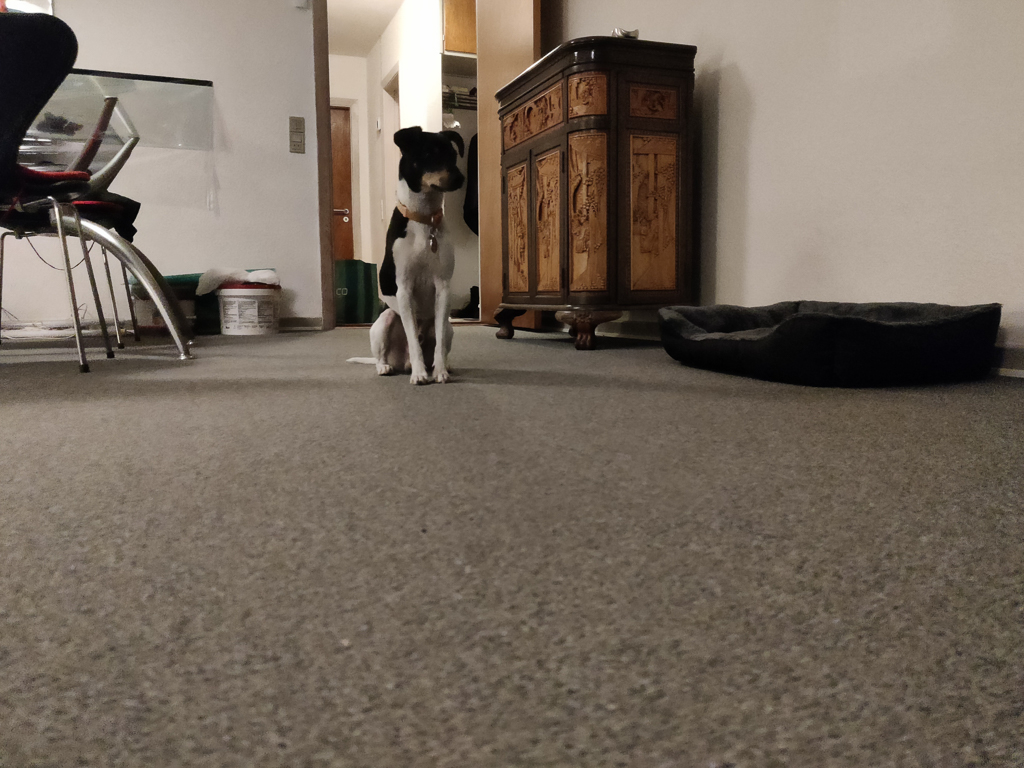Dog: (343, 109, 475, 396)
